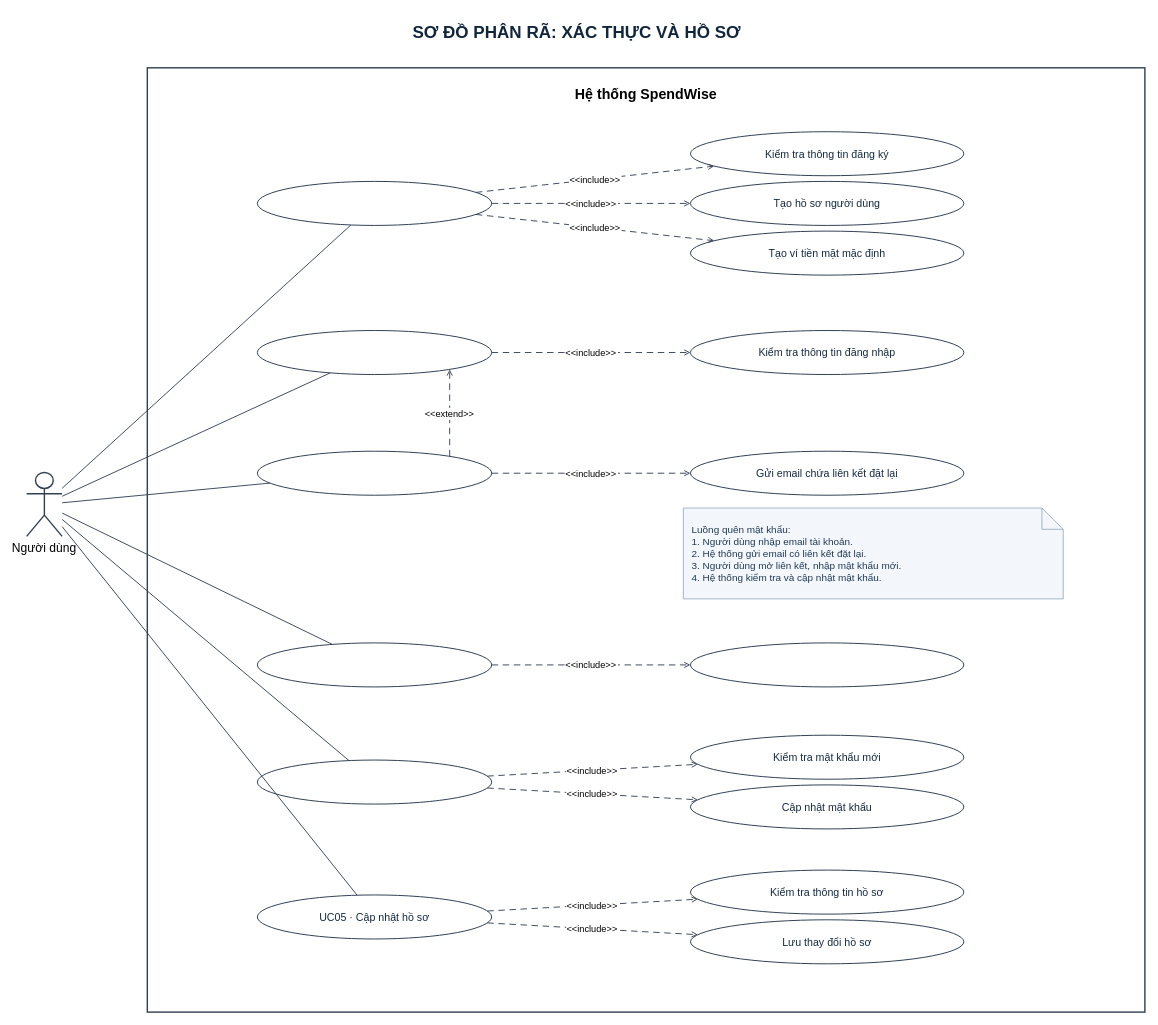
Some shapes in this 1158 by 1025 pixel diagram are drawn without their labels. The box of each missing label's shape, as (x1, y1, x2, y2) in pixels:
Kết thúc phiên đăng nhập: (690, 642, 964, 687)
UC01 · Đăng ký tài khoản: (257, 181, 492, 226)
UC02 · Đăng nhập: (257, 330, 492, 375)
UC03 · Đăng xuất: (257, 642, 492, 687)
UC04 · Quên mật khẩu: (257, 450, 492, 495)
UC04 · Đổi mật khẩu: (257, 759, 492, 804)
